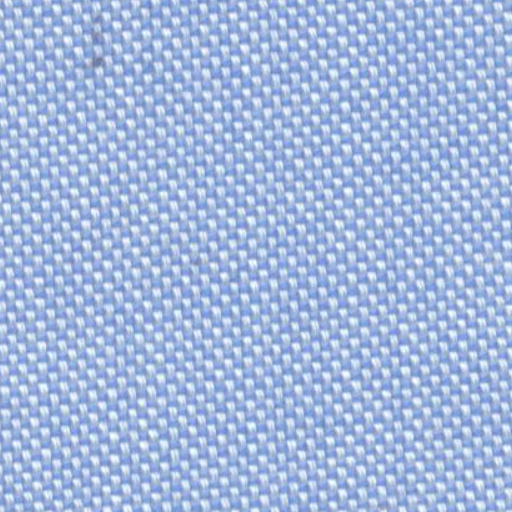WuZi: (72, 14, 124, 75)
